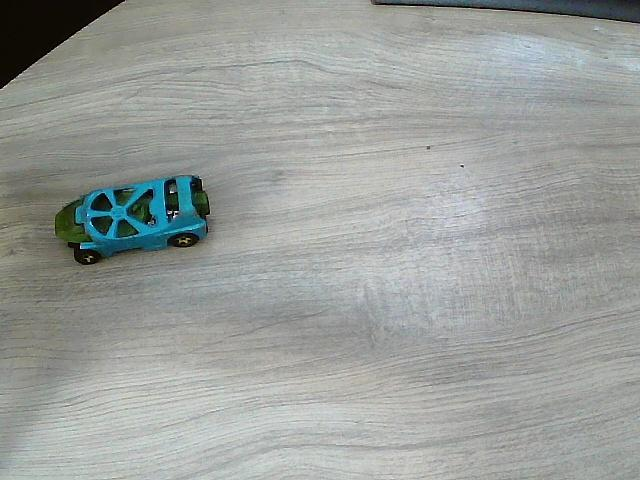Carro: (54, 175, 211, 266)
